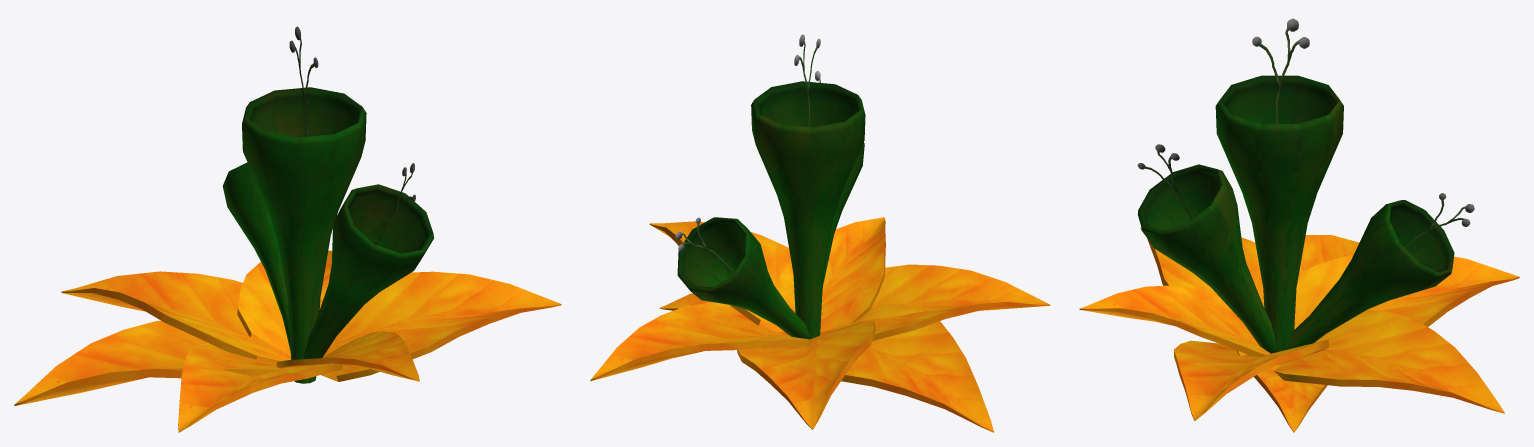
Rendered from Plant2.fbx.
The picture shows the model from 3 angles, left to right: view 1: azimuth 30°, elevation 25°; view 2: azimuth 150°, elevation 25°; view 3: azimuth 270°, elevation 25°; orthographic projection. The views are drawn at different scales.
Parts seen in each view (by area): view 1: Plant2; view 2: Plant2; view 3: Plant2.
Part boxes in pixels (<box>): Plant2: <box>14,26,561,432</box>; Plant2: <box>590,34,1050,432</box>; Plant2: <box>1079,18,1519,432</box>.
Bounding box in the file's own units: 1.08 × 0.7906 × 0.8893.
1 material, 1 textured.
